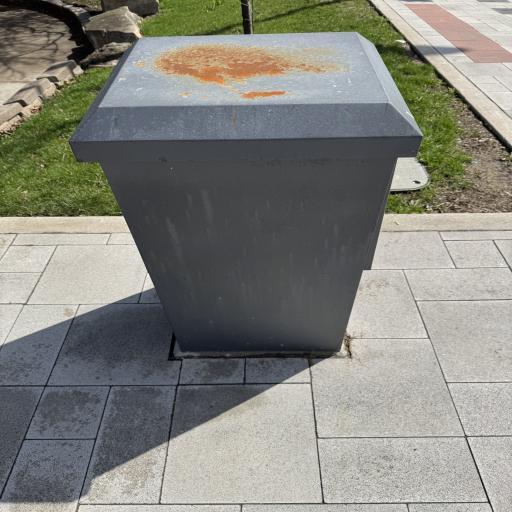Electrical Box: (71, 31, 424, 357)
